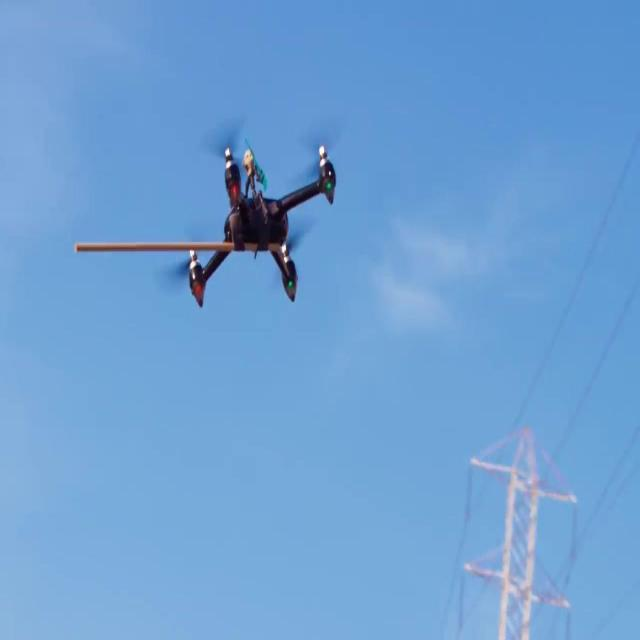drone: (185, 143, 338, 311)
